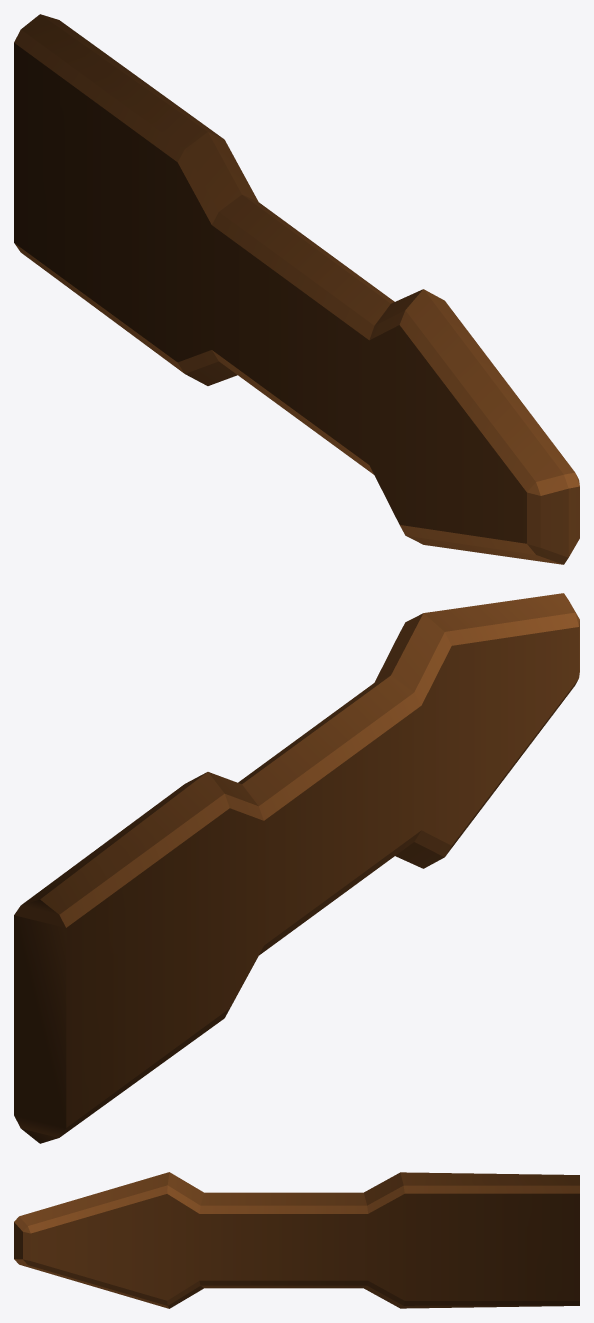
The model's file is Signal-2.fbx.
The picture shows the model from 3 angles, top to bottom: view 1: azimuth 30°, elevation 25°; view 2: azimuth 150°, elevation 25°; view 3: azimuth 270°, elevation 25°; orthographic projection. The views are drawn at different scales.
Parts seen in each view (by area): view 1: Signal-2; view 2: Signal-2; view 3: Signal-2.
Boxes of the visible parts, box(x1,y1,x2,y2) form: Signal-2: box(14, 14, 579, 564); Signal-2: box(14, 593, 579, 1143); Signal-2: box(14, 1172, 579, 1308).
Bounding box in the file's own units: 12.55 × 58.75 × 220.
